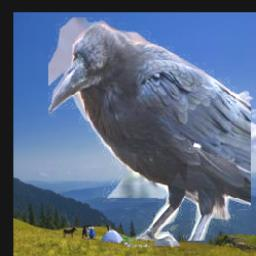Crow: (49, 18, 252, 242)
